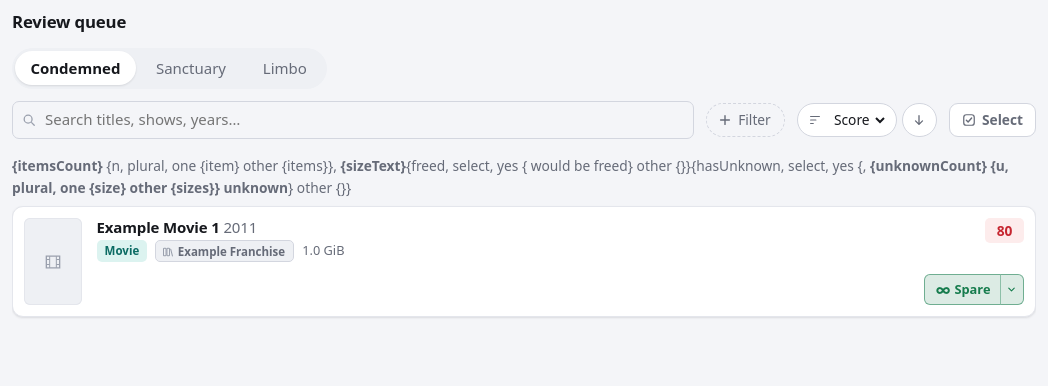
Test: the collection chip › opens the collection screen when the chip's name is pressed
Expected: the button "Example Movie 1" is shown, top-left (97, 218), bottom-right (220, 236)
Click the button "Example Franchise": {"x": 225, "y": 252} top-left (156, 241), bottom-right (293, 263)
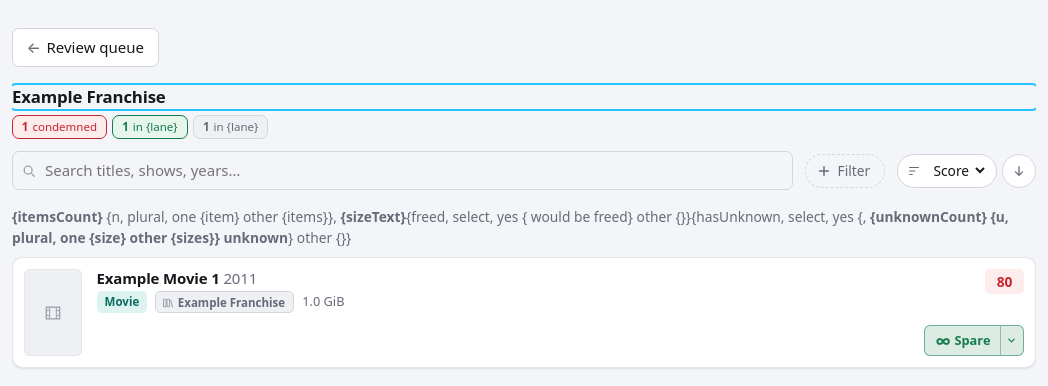
Expected: the heading "Example Franchise" is shown, top-left (12, 85), bottom-right (166, 108)
